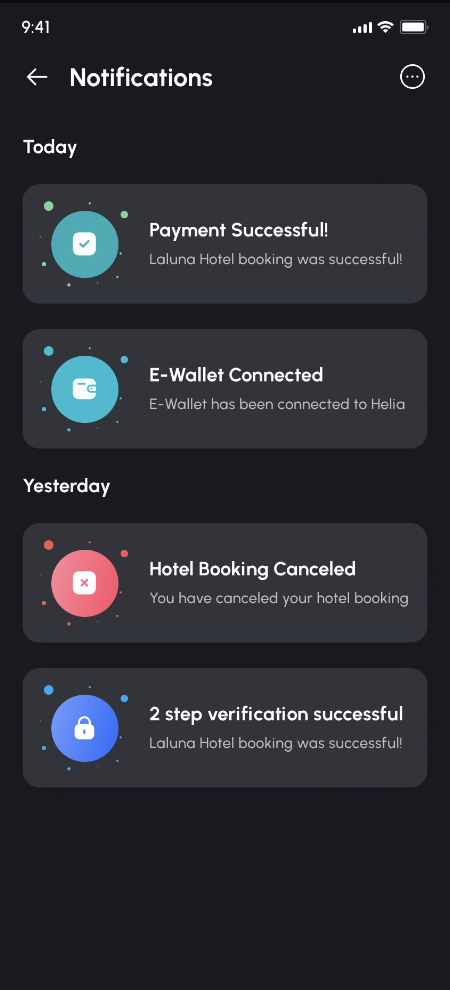AppBar: (1, 39, 450, 97)
